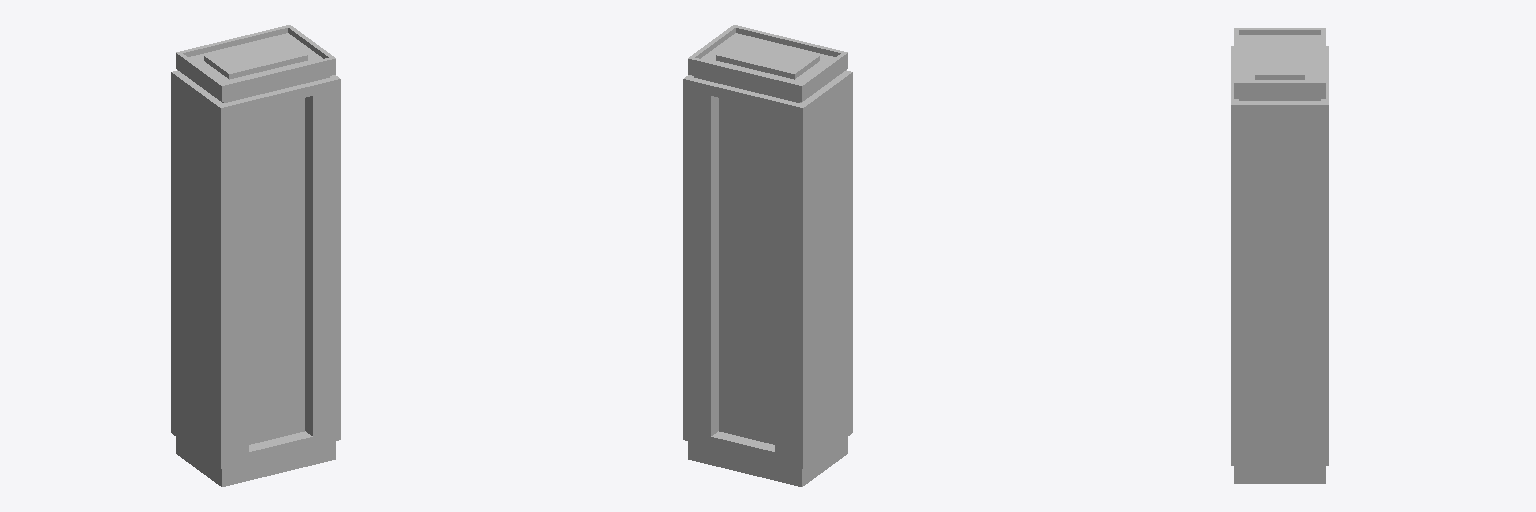
3 views of the same model, side by side, from view 1: azimuth 30°, elevation 25°; view 2: azimuth 150°, elevation 25°; view 3: azimuth 270°, elevation 25° (orthographic).
Parts seen in each view (by area): view 1: Highrise_4; view 2: Highrise_4; view 3: Highrise_4.
Boxes of the visible parts, x1,y1,x2,y2 form: Highrise_4: [171, 25, 340, 486]; Highrise_4: [683, 25, 852, 486]; Highrise_4: [1231, 28, 1328, 483].
Bounding box in the file's own units: 150 × 477 × 107.